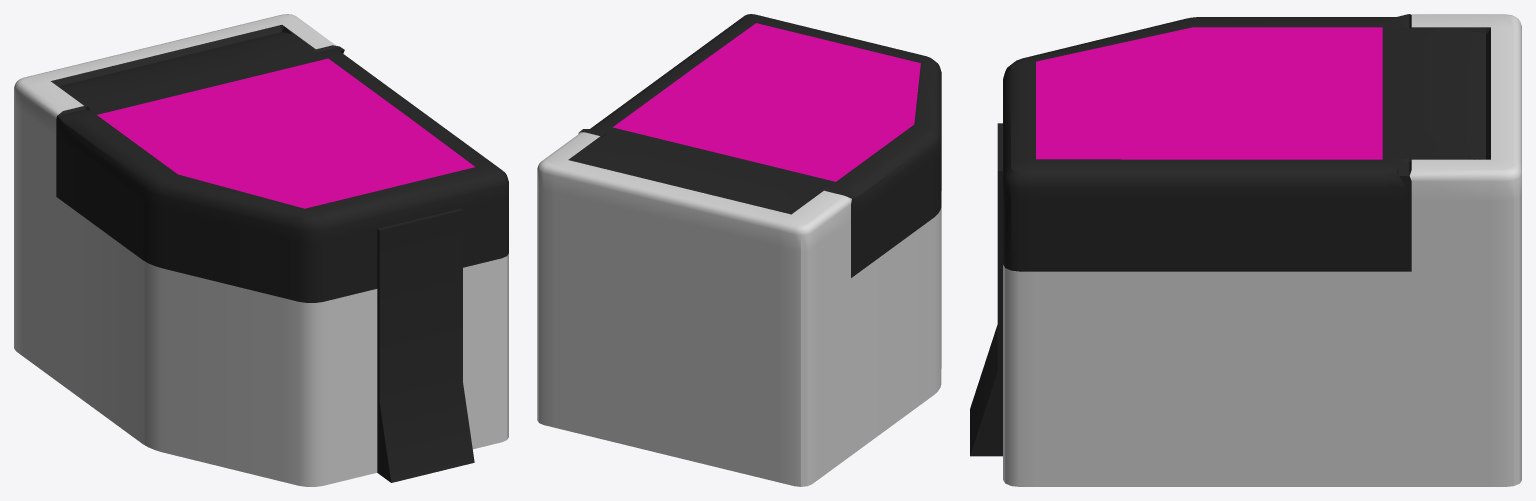
File: TransonicFlowSensor.fbx
3 views of the same model, side by side, from view 1: azimuth 30°, elevation 25°; view 2: azimuth 150°, elevation 25°; view 3: azimuth 270°, elevation 25° (orthographic). The views are drawn at different scales.
Parts seen in each view (by area): view 1: TransonicFlowSensor; view 2: TransonicFlowSensor; view 3: TransonicFlowSensor.
Boxes of the visible parts, box(x1,y1,x2,y2) form: TransonicFlowSensor: box(14, 14, 508, 486); TransonicFlowSensor: box(537, 14, 941, 486); TransonicFlowSensor: box(970, 14, 1521, 486).
Bounding box in the file's own units: 3.09 × 2.79 × 4.45.
